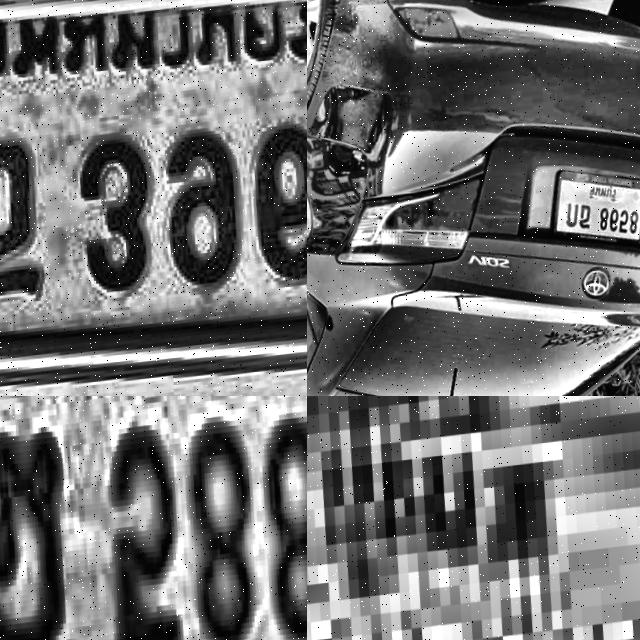license-plate: (0, 0, 307, 396), (307, 396, 640, 640), (0, 396, 307, 640), (547, 161, 640, 258)
